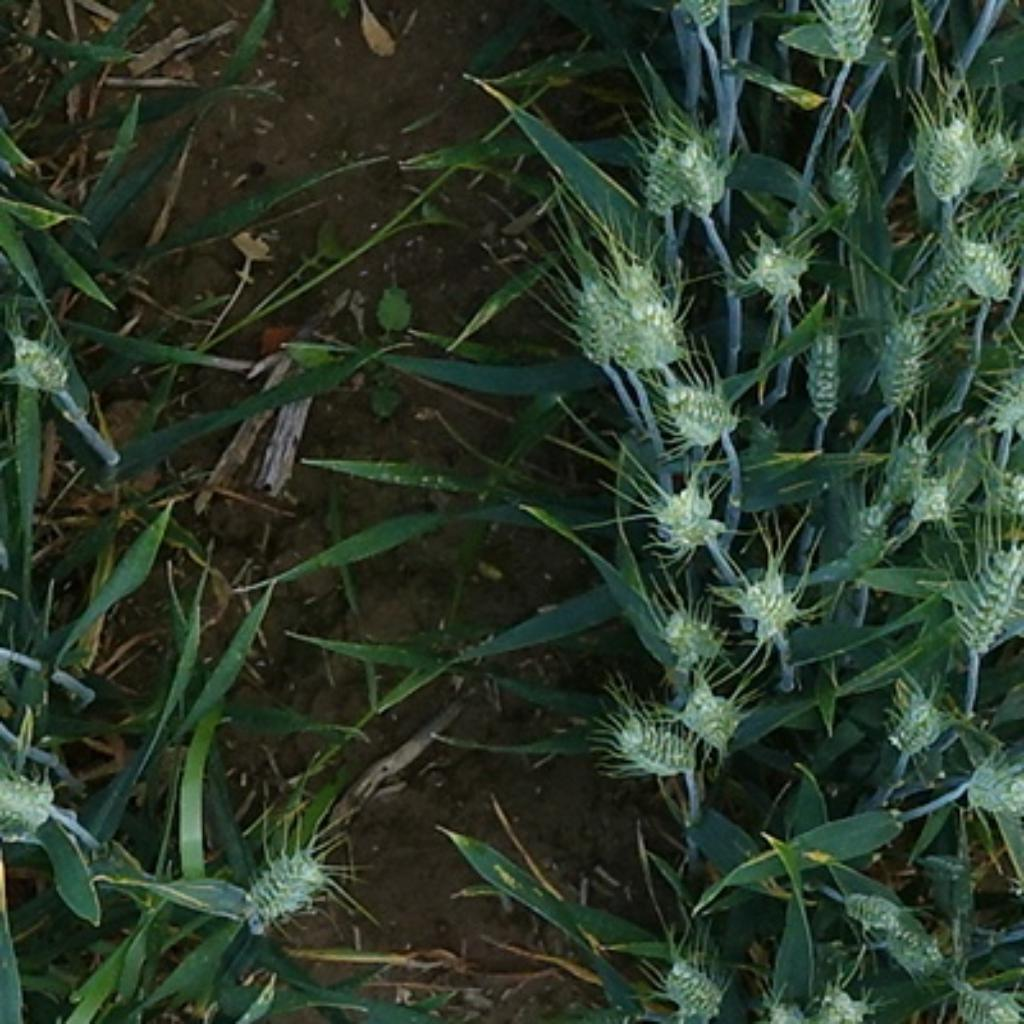0-0: (852, 432, 954, 537), (949, 529, 1024, 655), (235, 837, 332, 926), (611, 711, 704, 782), (652, 378, 742, 450), (898, 117, 977, 199), (880, 680, 957, 757), (737, 227, 816, 302), (645, 482, 724, 555), (797, 317, 849, 422), (647, 604, 727, 670), (609, 309, 696, 367), (629, 134, 691, 215), (673, 680, 747, 747), (621, 252, 689, 323), (815, 0, 883, 70), (960, 747, 1024, 819), (570, 276, 620, 366), (885, 916, 946, 986), (732, 574, 802, 634), (968, 122, 1017, 205), (958, 233, 1014, 305), (678, 131, 724, 216), (8, 334, 72, 395), (882, 316, 924, 407), (661, 963, 726, 1021), (916, 246, 967, 319), (840, 880, 902, 939), (0, 767, 53, 836), (972, 455, 1024, 522), (829, 158, 871, 224), (988, 368, 1024, 442), (814, 977, 865, 1024), (752, 993, 826, 1024)
